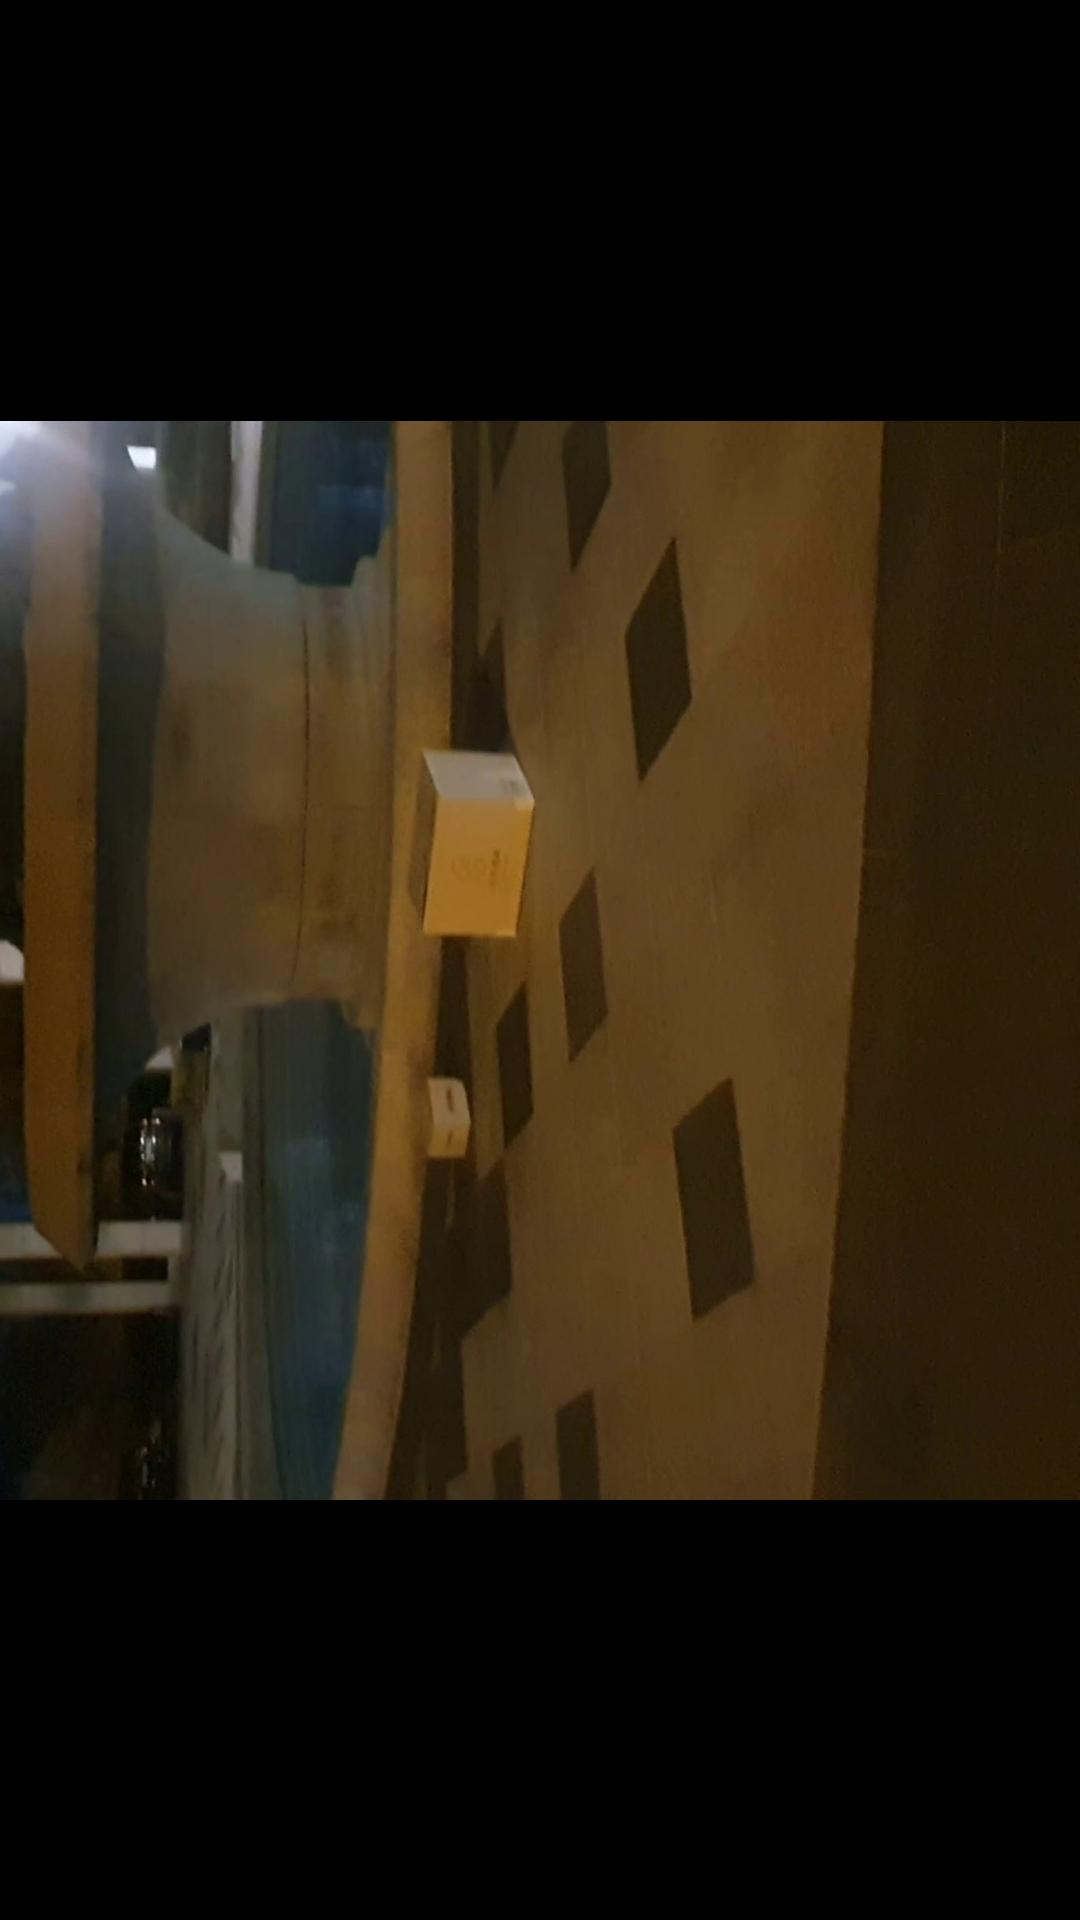Box: (398, 741, 538, 947), (413, 1075, 469, 1167)
